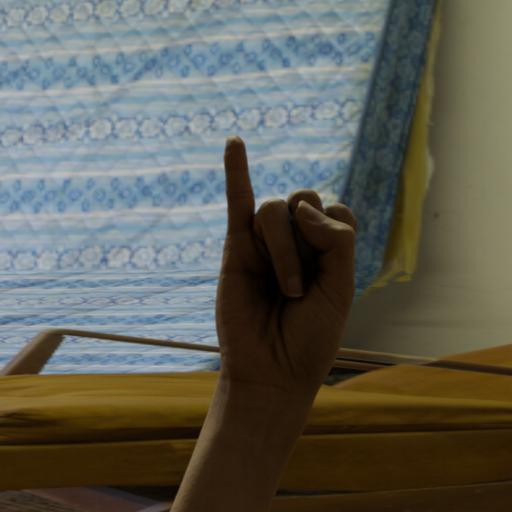I: (208, 134, 363, 386)
